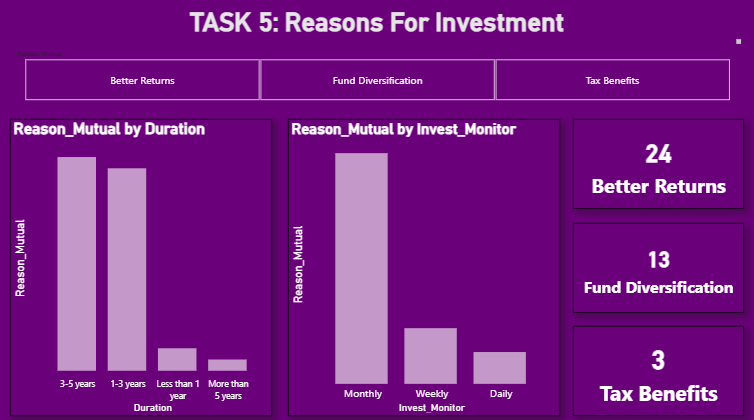

The page's visual inventory and layout, read from the dashboard file:
{"tool":"powerbi","page":{"name":"Task 5","canvas":[1280,720],"ordinal":4},"visuals":[{"type":"textbox","title":"TASK 5: Reasons For Investment","box":[23.5,20.2,1233,67.2],"z":0},{"type":"clusteredColumnChart","fields":{"Category":["Data_set 2.Duration"],"Y":["CountNonNull(Data_set 2.Reason_Mutual)"]},"box":[23.5,208.3,440.1,498.9],"z":1000},{"type":"clusteredColumnChart","fields":{"Y":["CountNonNull(Data_set 2.Reason_Mutual)"],"Category":["Data_set 2.Invest_Monitor"]},"box":[490.5,208.3,456.9,498.9],"z":2000},{"type":"slicer","fields":{"Values":["Data_set 2.Reason_Mutual"]},"box":[23.5,87.3,1233,95.7],"z":3000},{"type":"card","fields":{"Values":["Data_set 2.Better Returns"]},"box":[969.2,208.3,287.2,151.2],"z":4000},{"type":"card","fields":{"Values":["Data_set 2.Fund Diversification"]},"box":[969.2,383,287.2,151.2],"z":5000},{"type":"card","fields":{"Values":["Data_set 2.Tax Benefits"]},"box":[969.2,556,287.2,151.2],"z":6000}]}

Visuals, with their boxes in screenshot pixels (x1, y1, x2, y2), scaled from the page's 1280x720 canvas onto the 754x420 screenshot:
"TASK 5: Reasons For Investment" textbox: (14, 12, 740, 51)
clusteredColumnChart - Data_set 2.Duration x CountNonNull(Data_set 2.Reason_Mutual): (14, 122, 273, 413)
clusteredColumnChart - CountNonNull(Data_set 2.Reason_Mutual) x Data_set 2.Invest_Monitor: (289, 122, 558, 413)
slicer - Data_set 2.Reason_Mutual: (14, 51, 740, 107)
card - Data_set 2.Better Returns: (571, 122, 740, 210)
card - Data_set 2.Fund Diversification: (571, 223, 740, 312)
card - Data_set 2.Tax Benefits: (571, 324, 740, 413)
